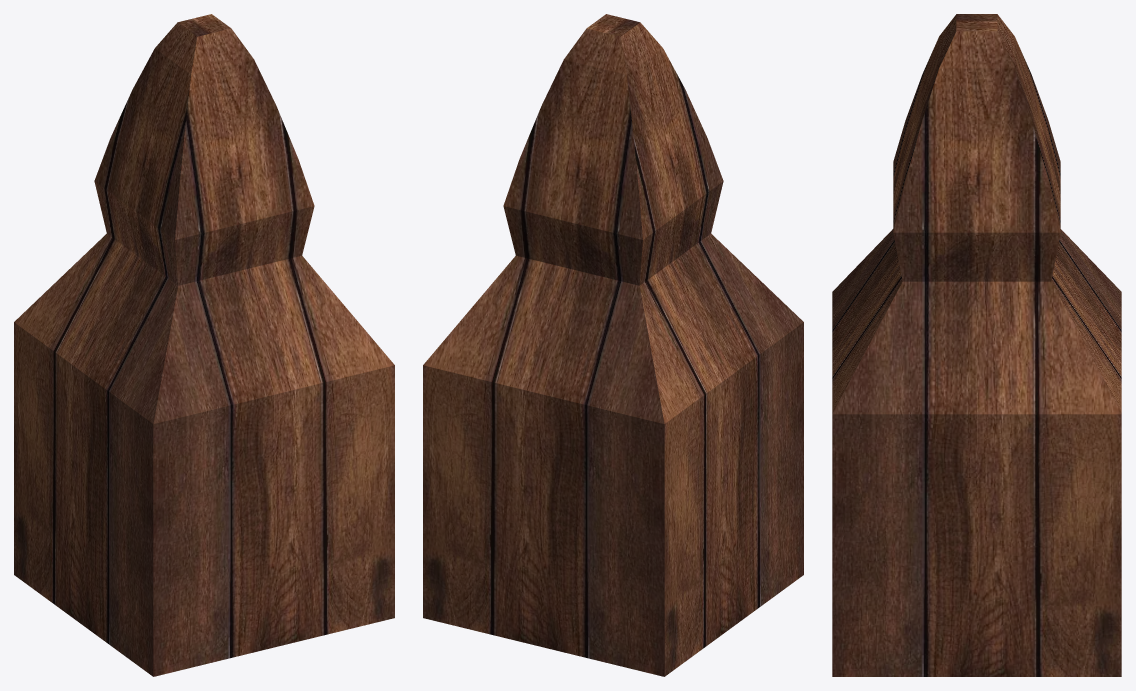
3 views of the same model, side by side, from view 1: azimuth 30°, elevation 25°; view 2: azimuth 150°, elevation 25°; view 3: azimuth 270°, elevation 25° (orthographic). The views are drawn at different scales.
Visible parts, largest first — view 1: Cube; view 2: Cube; view 3: Cube.
Part boxes in pixels (bbox=[...]): Cube: bbox=[14, 14, 394, 676]; Cube: bbox=[423, 14, 803, 676]; Cube: bbox=[832, 14, 1121, 676].
Size of the model in its own units: 2 by 4.52 by 2.
1 material, 1 textured.
